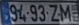3: (37, 4, 46, 21)
4: (18, 3, 26, 22)
9: (8, 3, 18, 22), (28, 3, 37, 21)
M: (58, 3, 72, 22)
Z: (48, 4, 60, 22)
